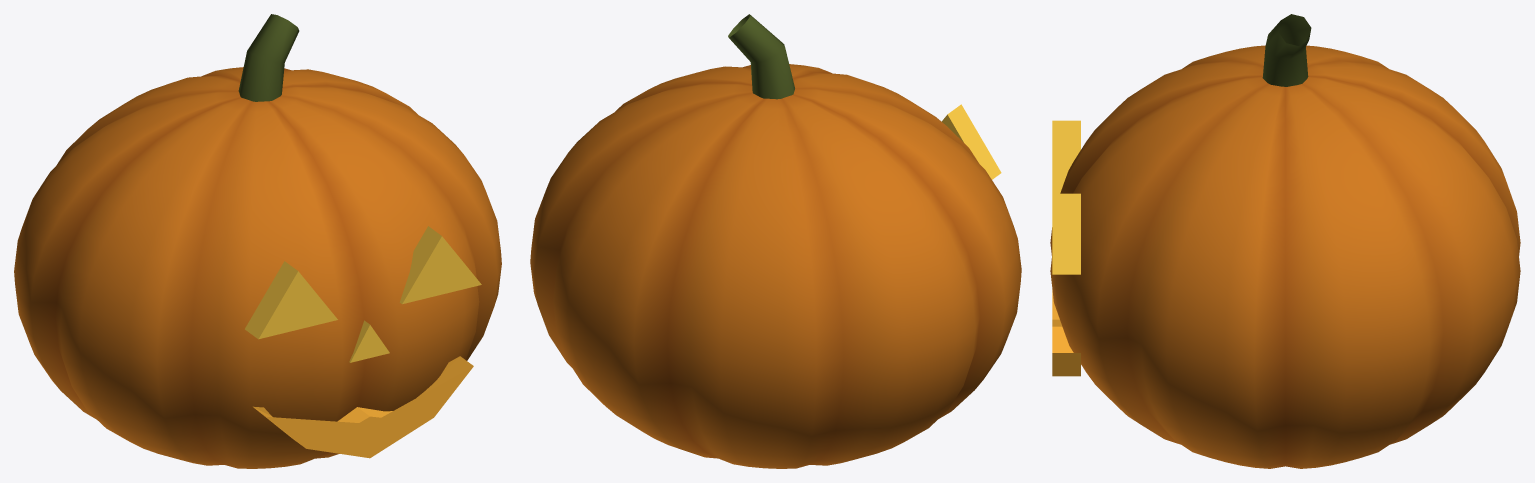
File: furn_pumpkin_lantern.glb
3 views of the same model, side by side, from view 1: azimuth 30°, elevation 25°; view 2: azimuth 150°, elevation 25°; view 3: azimuth 270°, elevation 25° (orthographic). The views are drawn at different scales.
Visible parts, largest first — view 1: furn_pumpkin_lantern_main, furn_pumpkin_lantern_glow; view 2: furn_pumpkin_lantern_main, furn_pumpkin_lantern_glow; view 3: furn_pumpkin_lantern_main, furn_pumpkin_lantern_glow.
Boxes of the visible parts, <box> form: furn_pumpkin_lantern_main: <box>14,14,501,468</box>; furn_pumpkin_lantern_glow: <box>245,226,481,458</box>; furn_pumpkin_lantern_main: <box>530,14,1021,468</box>; furn_pumpkin_lantern_glow: <box>941,104,1001,179</box>; furn_pumpkin_lantern_main: <box>1050,14,1520,468</box>; furn_pumpkin_lantern_glow: <box>1052,120,1080,376</box>.
Size of the model in its own units: 0.5334 by 0.5031 by 0.4907.
